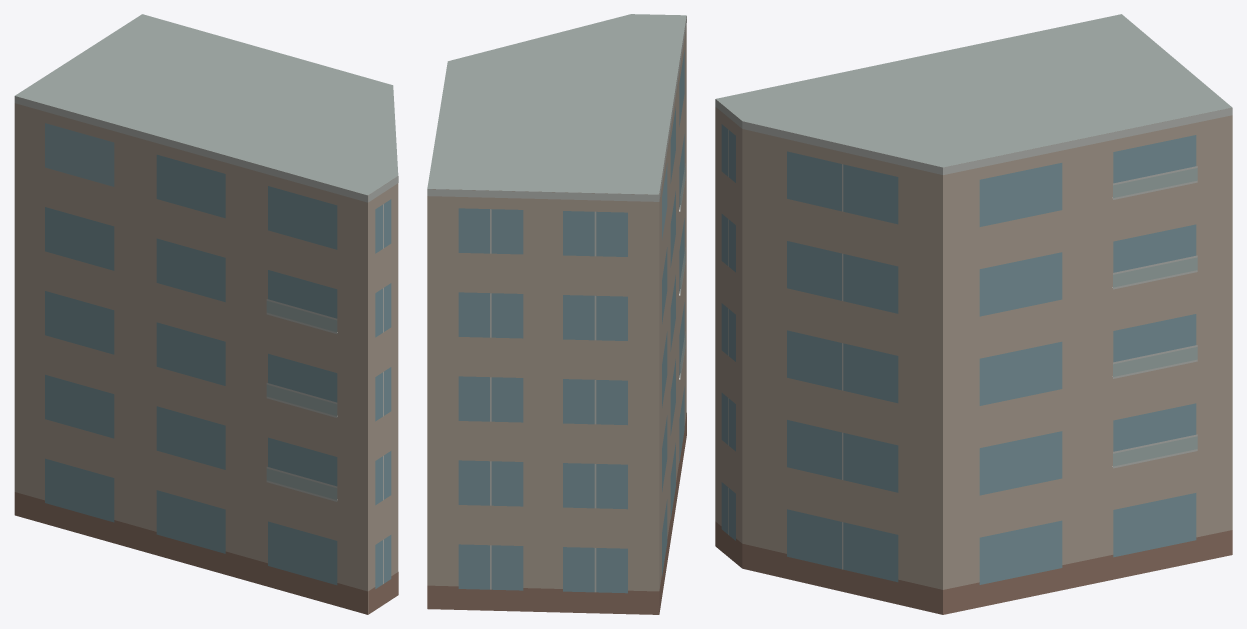
File: survey-upis-32953271.glb
3 views of the same model, side by side, from view 1: azimuth 30°, elevation 25°; view 2: azimuth 150°, elevation 25°; view 3: azimuth 270°, elevation 25° (orthographic). The views are drawn at different scales.
Parts seen in each view (by area): view 1: survey-upis-32953271.tmp; view 2: survey-upis-32953271.tmp; view 3: survey-upis-32953271.tmp.
Part boxes in pixels (box(x1,y1,x2,y2)): survey-upis-32953271.tmp: box(14, 14, 398, 614); survey-upis-32953271.tmp: box(427, 14, 686, 614); survey-upis-32953271.tmp: box(715, 14, 1232, 614).
Size of the model in its own units: 10.46 by 14.2 by 14.88.
